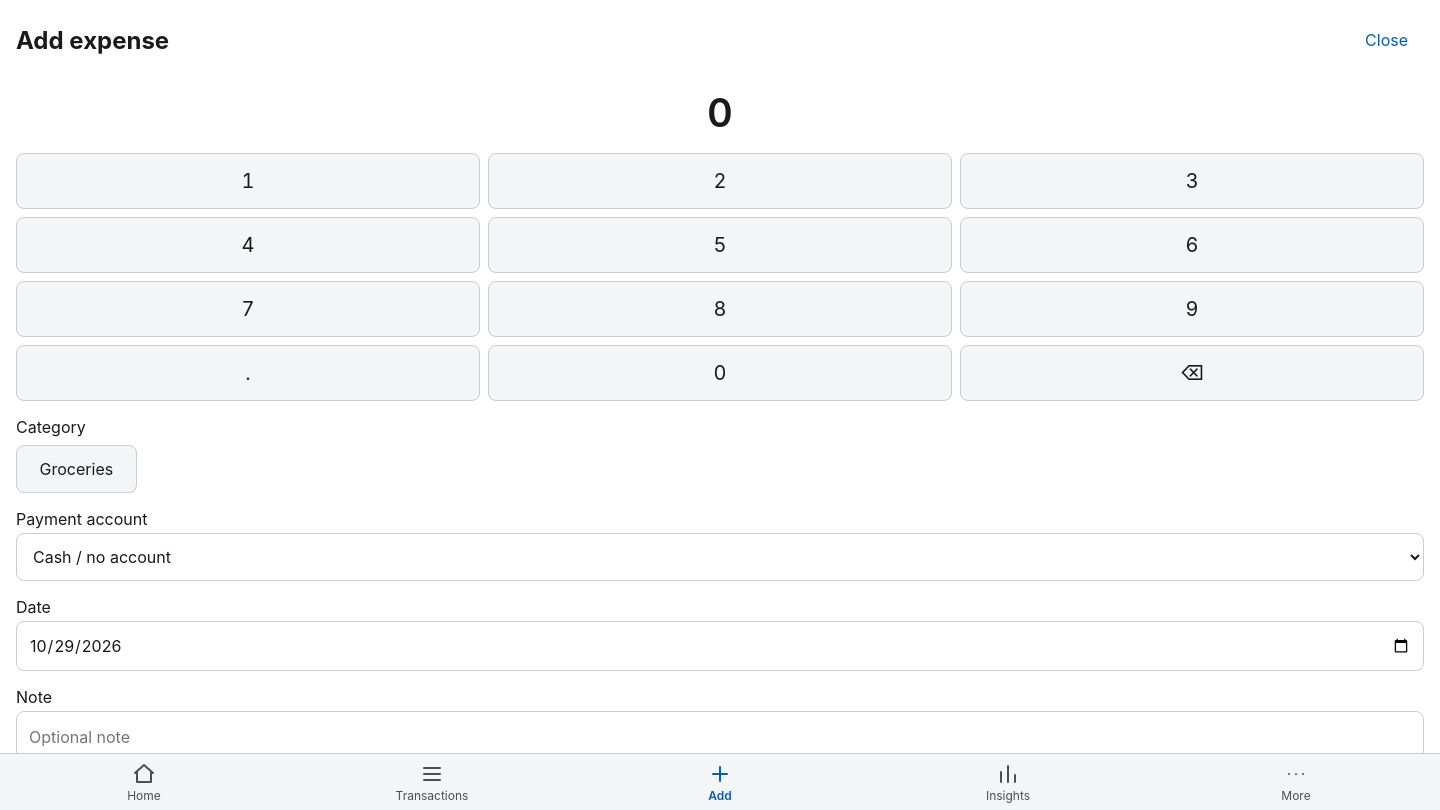
Test case: REQ-UI-023 Add › REQ-UI-023 shows a validation error when the server answers 422
The image size is (1440, 810).
Click the button "5" at (720, 245), box [488,217,952,273]
(page scrolled)
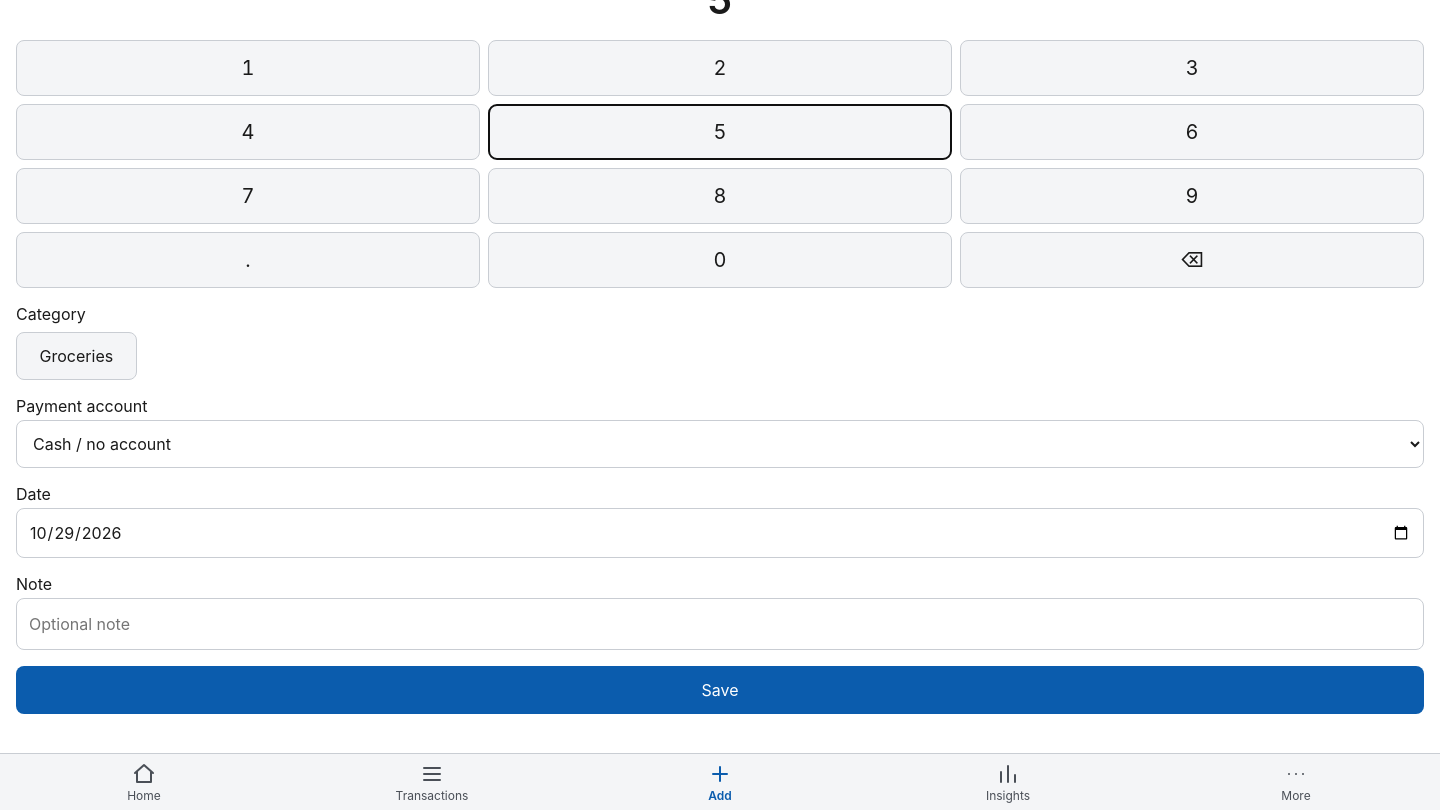
Click the button "Save" at (720, 690), box [16,666,1424,714]
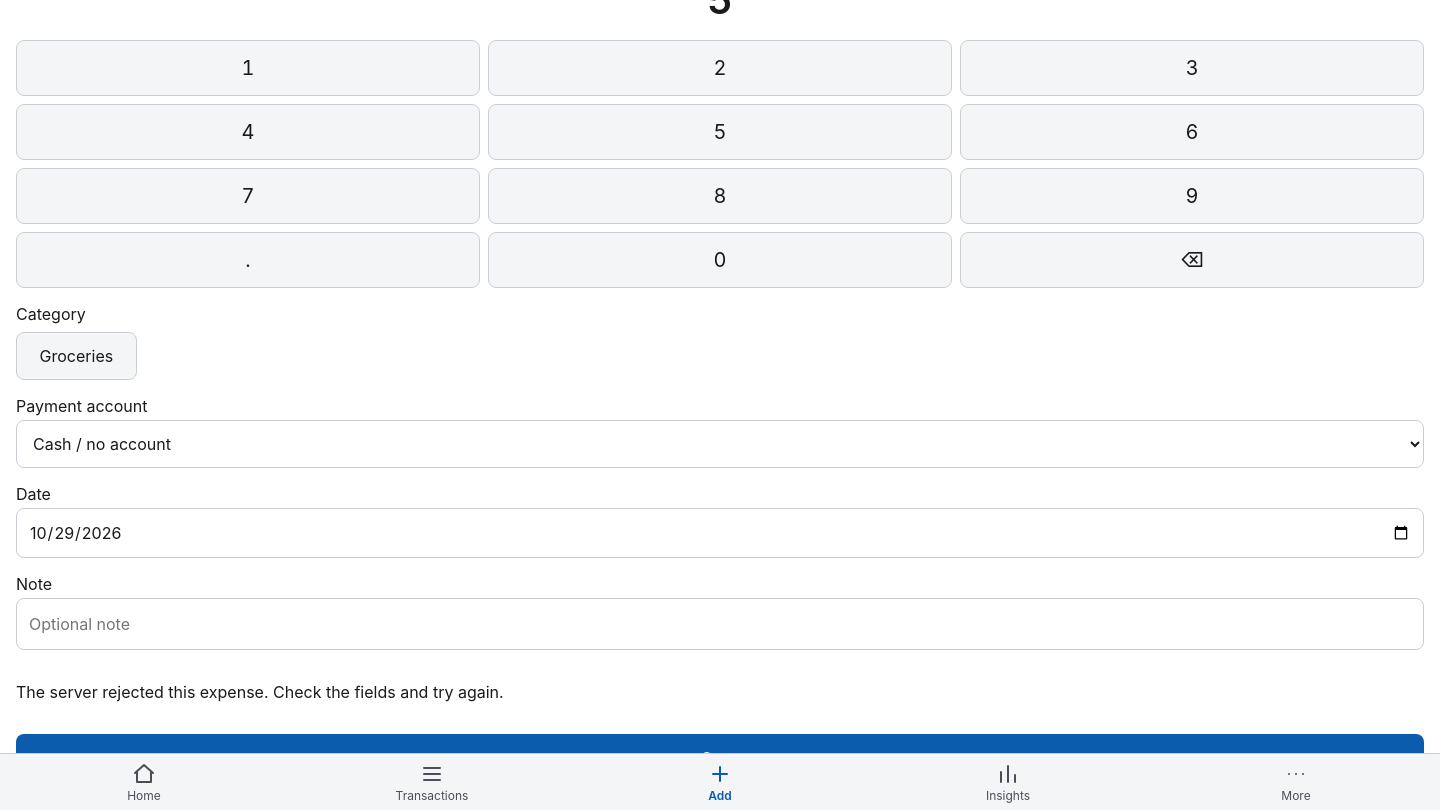
Result: the text "The server rejected this expense. Check the fields and try again." is shown at [16,682,504,702]
